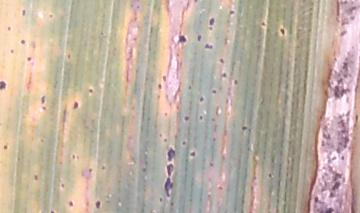tarspot: (164, 143, 176, 202), (173, 31, 190, 48), (277, 26, 289, 39), (264, 169, 277, 181), (23, 54, 37, 65), (202, 41, 216, 52), (179, 113, 194, 123), (226, 7, 239, 18), (1, 76, 9, 93), (193, 31, 204, 43), (185, 81, 196, 93), (216, 54, 227, 66), (206, 15, 218, 26), (71, 100, 81, 113), (93, 198, 103, 211), (208, 87, 221, 97), (58, 179, 67, 193), (205, 159, 216, 170), (219, 69, 229, 81), (39, 92, 47, 106), (187, 148, 197, 159), (86, 87, 97, 97), (46, 11, 57, 21), (98, 163, 109, 173), (258, 18, 268, 29), (86, 165, 95, 177), (197, 93, 206, 105), (19, 6, 27, 19), (232, 76, 240, 89), (196, 113, 206, 123), (158, 72, 169, 81), (65, 50, 73, 62), (5, 23, 14, 33), (18, 37, 27, 47), (66, 199, 76, 208), (32, 172, 40, 183), (39, 106, 51, 113), (155, 80, 163, 90), (2, 141, 9, 152), (9, 46, 16, 57), (71, 151, 77, 163), (205, 26, 218, 31), (240, 124, 248, 132), (47, 208, 58, 213), (190, 1, 201, 5)
